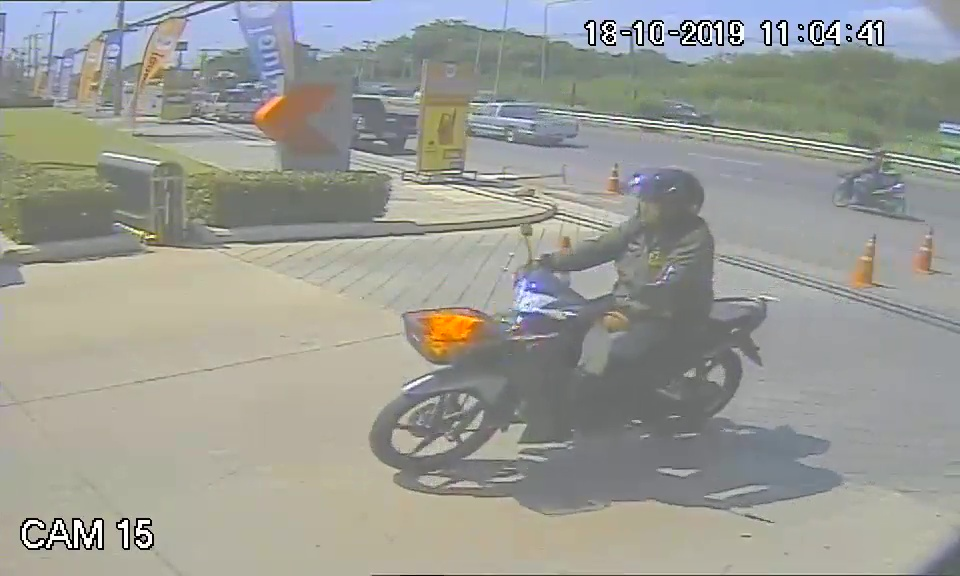motorcycle: (369, 265, 768, 473)
